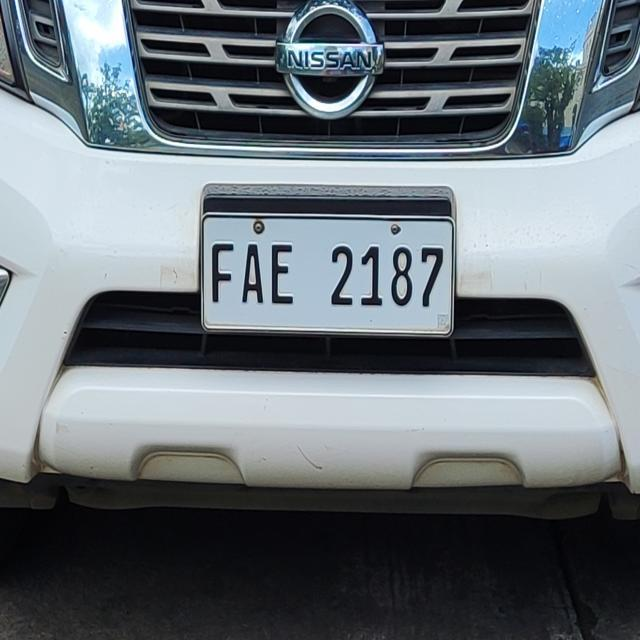LicensePlate: (196, 203, 463, 337)
